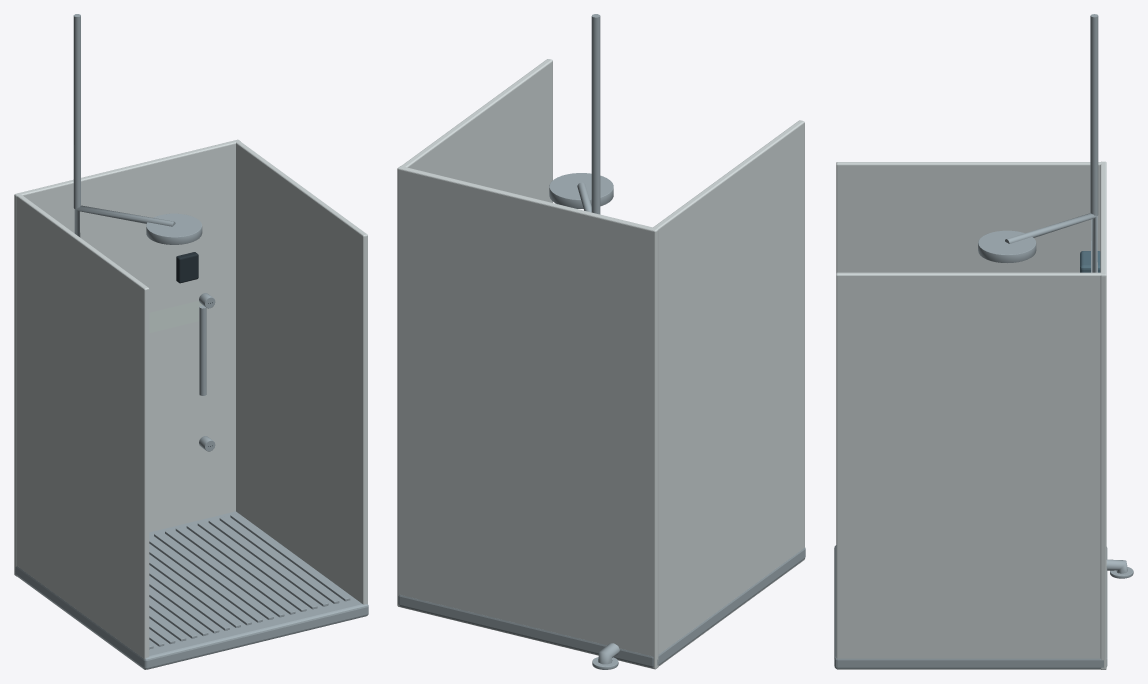
The model's file is OD_PipedDeconShower.fbx.
3 views of the same model, side by side, from view 1: azimuth 30°, elevation 25°; view 2: azimuth 150°, elevation 25°; view 3: azimuth 270°, elevation 25° (orthographic). The views are drawn at different scales.
Visible parts, largest first — view 1: OD_PipedDeconShower; view 2: OD_PipedDeconShower; view 3: OD_PipedDeconShower.
Boxes of the visible parts, box(x1,y1,x2,y2) form: OD_PipedDeconShower: box(14, 14, 368, 669); OD_PipedDeconShower: box(397, 14, 805, 669); OD_PipedDeconShower: box(834, 14, 1133, 669).
Size of the model in its own units: 148 by 346 by 164.
